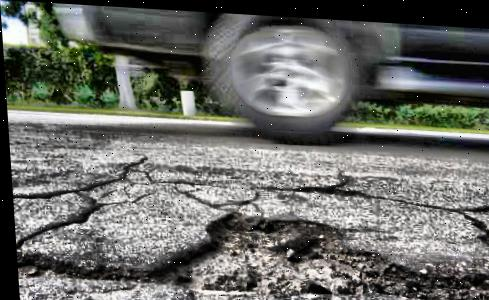pothole: (136, 200, 426, 300)
